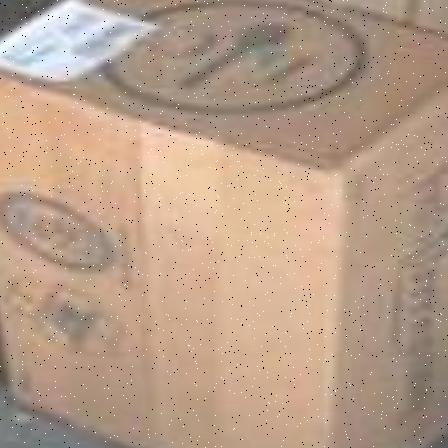Other: (0, 5, 448, 448)
